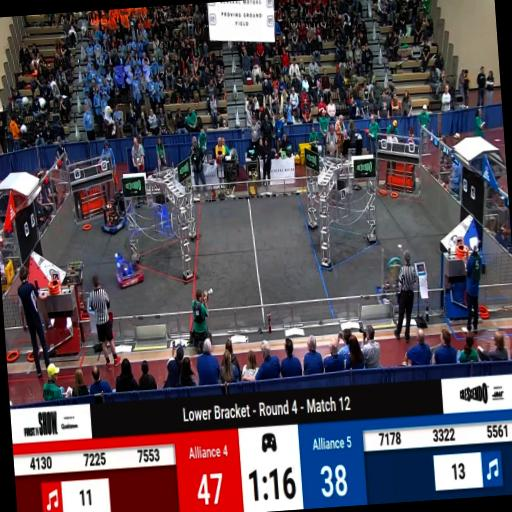robot: (116, 252, 146, 288), (100, 205, 127, 236)
